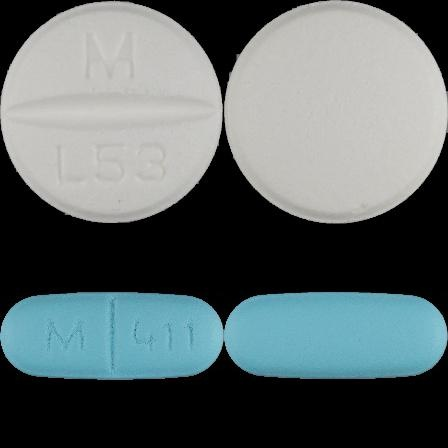51079-865: (0, 0, 224, 224)
